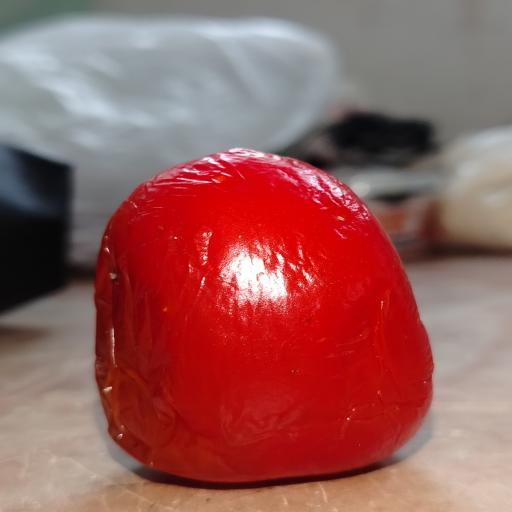spoiled: (95, 149, 432, 482)
